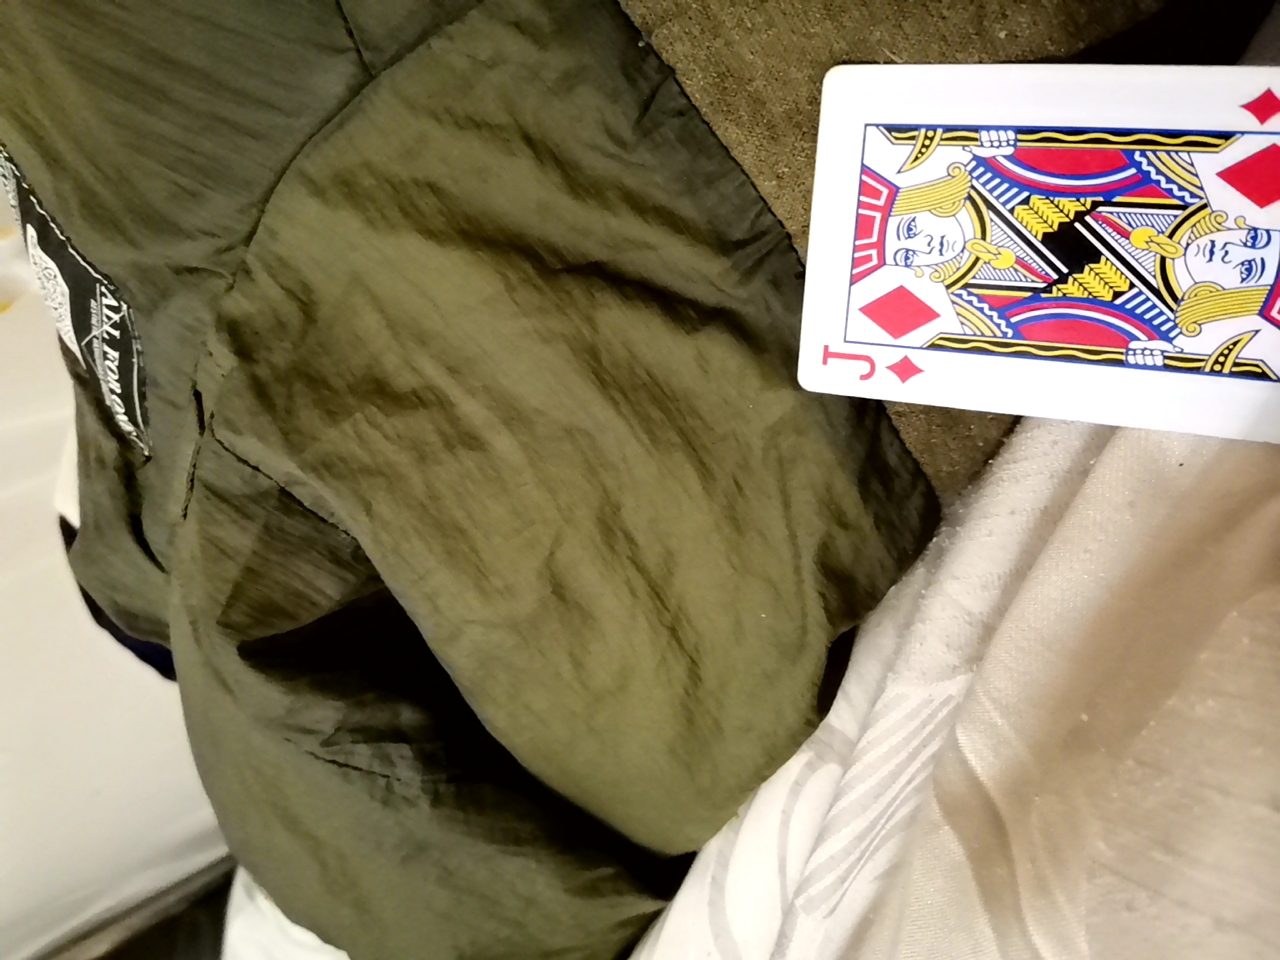fk j: (766, 68, 1267, 435)
